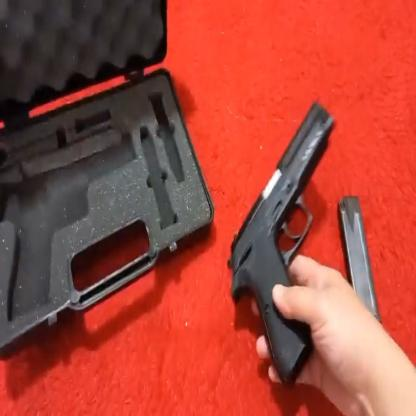handgun: (229, 96, 334, 390)
